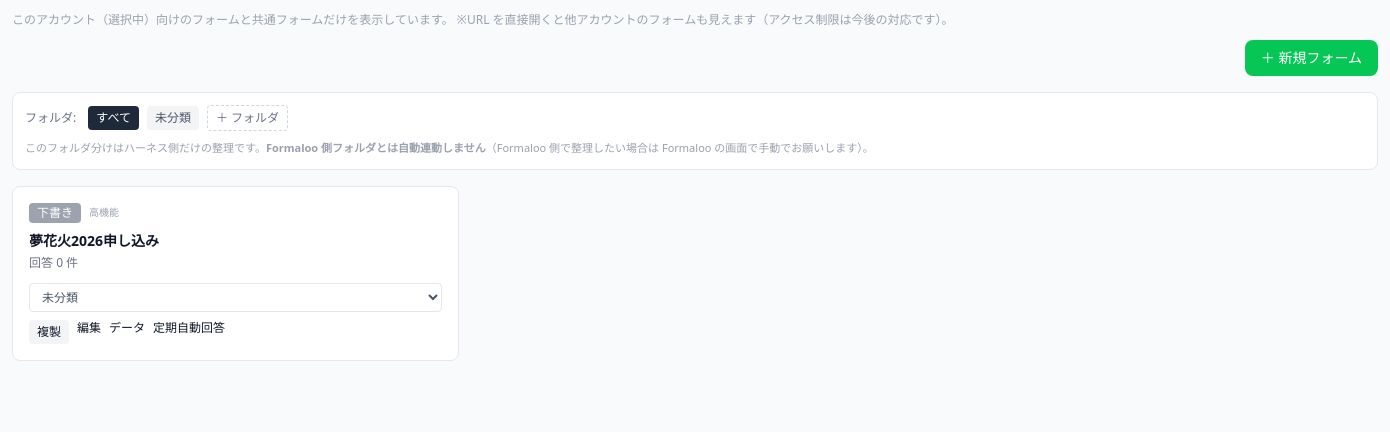
Test: フォーム一覧の複製操作 › 複製成功後の一覧再取得に失敗しても元一覧を保ち、日本語で再取得失敗を表示する
The width and height of the screenshot is (1390, 432).
Check: the element with test id "form-card-source-a" is shown, box [12,186,459,361]
Click the button with test id "duplicate-source-a" at (49, 332), box [29,320,69,344]
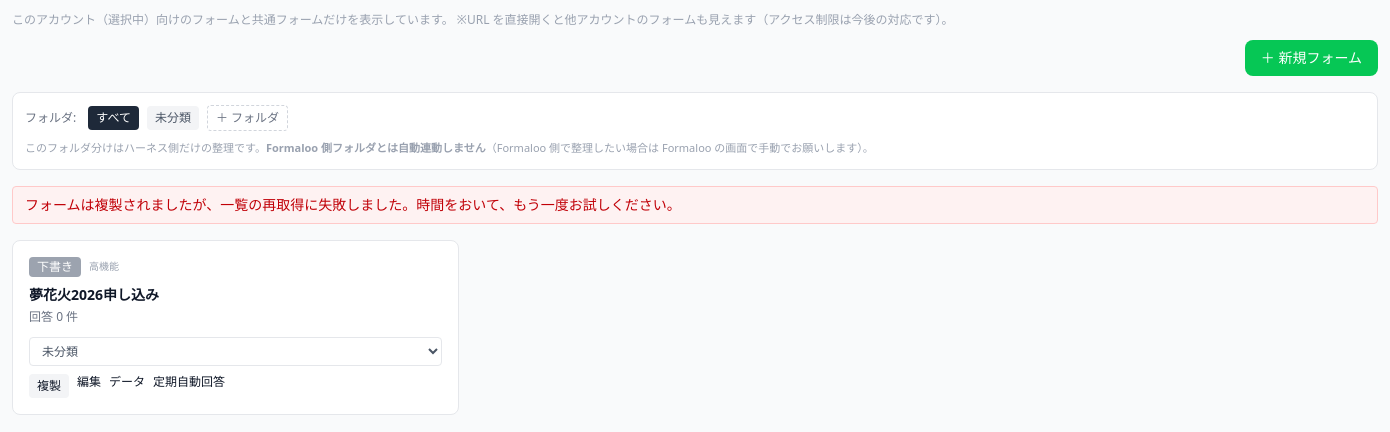
Check: the element with test id "form-card-source-a" is shown, box [12,240,459,415]
Check: the message shows "一覧の再取得に失敗しました", box [25,195,681,214]
